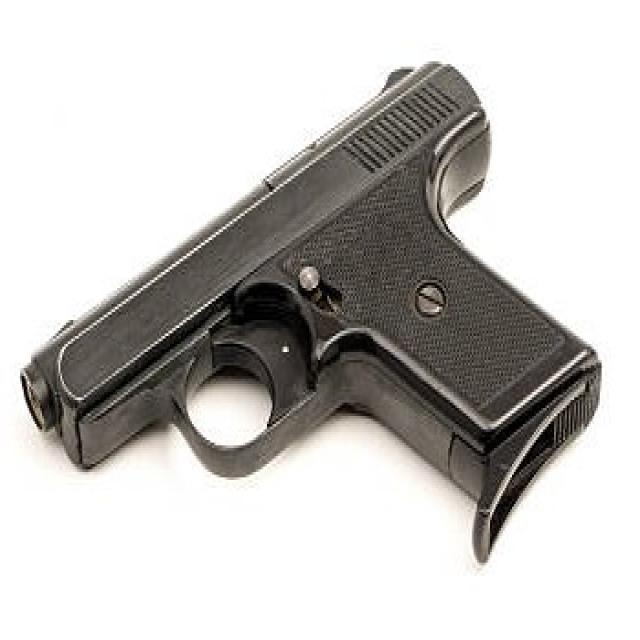pistol: (22, 57, 606, 573)
